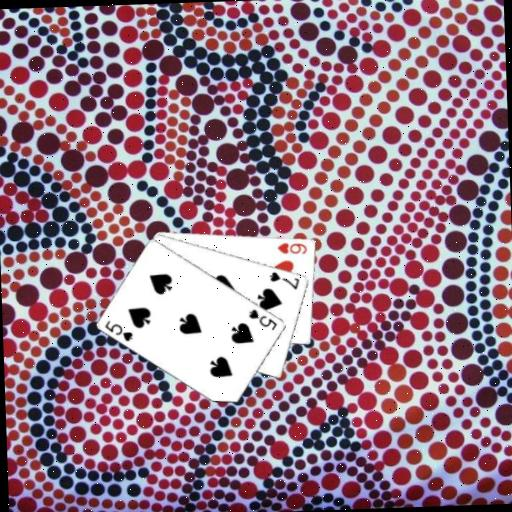5S: (245, 304, 278, 332), (102, 316, 135, 344)
6H: (274, 238, 309, 256)
7S: (267, 267, 302, 291)
